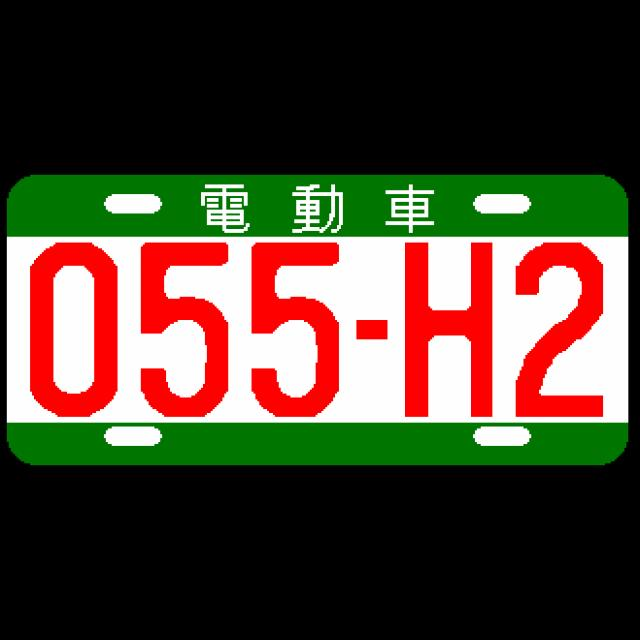plate: (3, 172, 631, 470)
